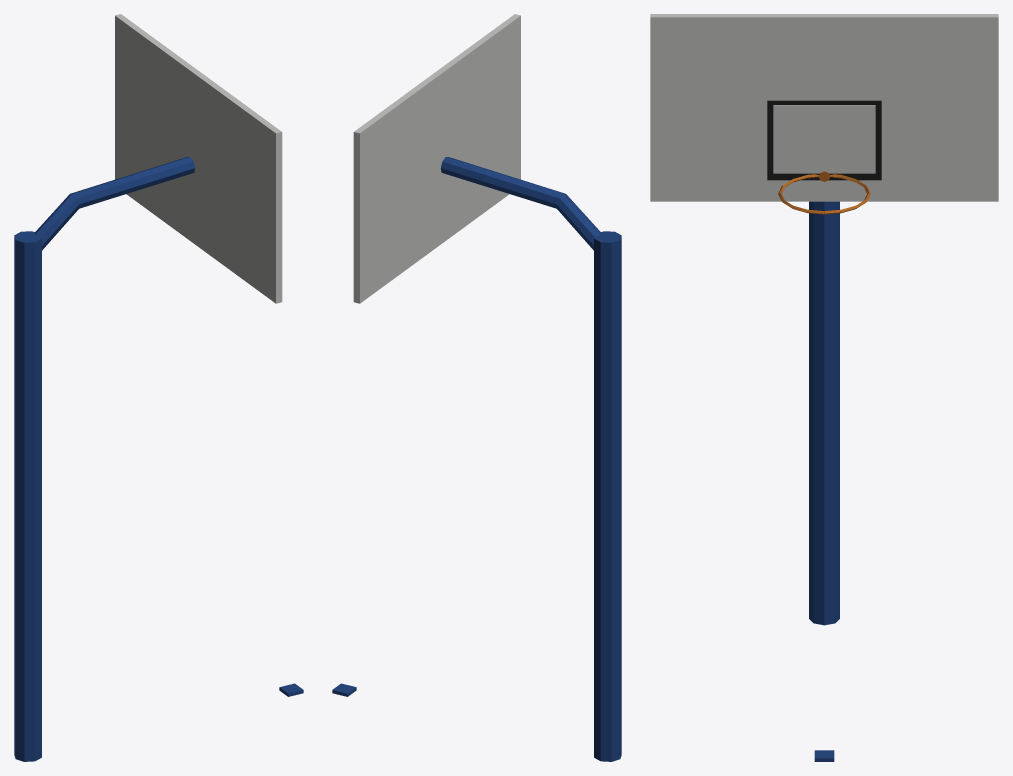
Rendered from SM_Prop_basket_hoop_0.glb.
3 views of the same model, side by side, from view 1: azimuth 30°, elevation 25°; view 2: azimuth 150°, elevation 25°; view 3: azimuth 270°, elevation 25° (orthographic). The views are drawn at different scales.
Parts seen in each view (by area): view 1: SM_Prop_basket_hoop_0; view 2: SM_Prop_basket_hoop_0; view 3: SM_Prop_basket_hoop_0.
Part boxes in pixels (box(x1,y1,x2,y2)): SM_Prop_basket_hoop_0: box(14, 14, 303, 761); SM_Prop_basket_hoop_0: box(332, 14, 621, 761); SM_Prop_basket_hoop_0: box(650, 14, 998, 761).
Size of the model in its own units: 1.83 by 3.95 by 1.8.
